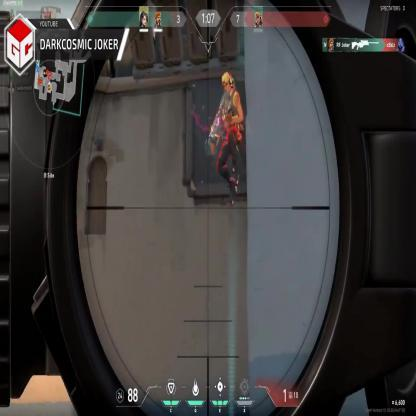enemy: (209, 72, 245, 206)
enemy_head: (221, 73, 235, 94)
